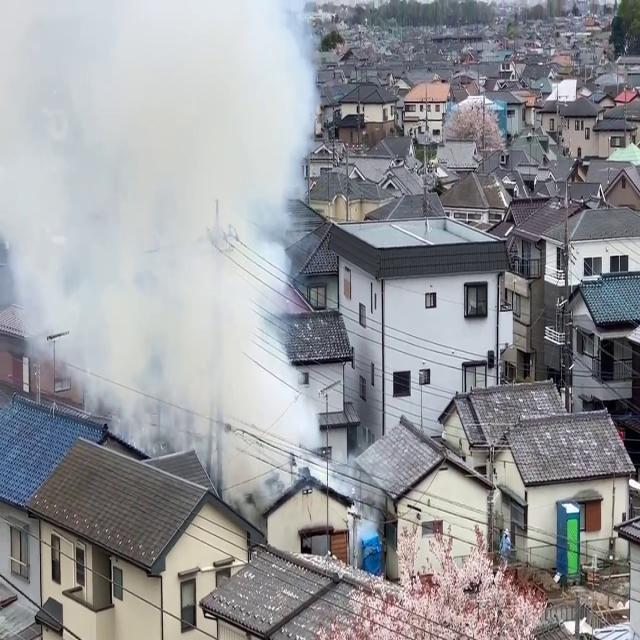Smoke: (0, 1, 331, 496)
